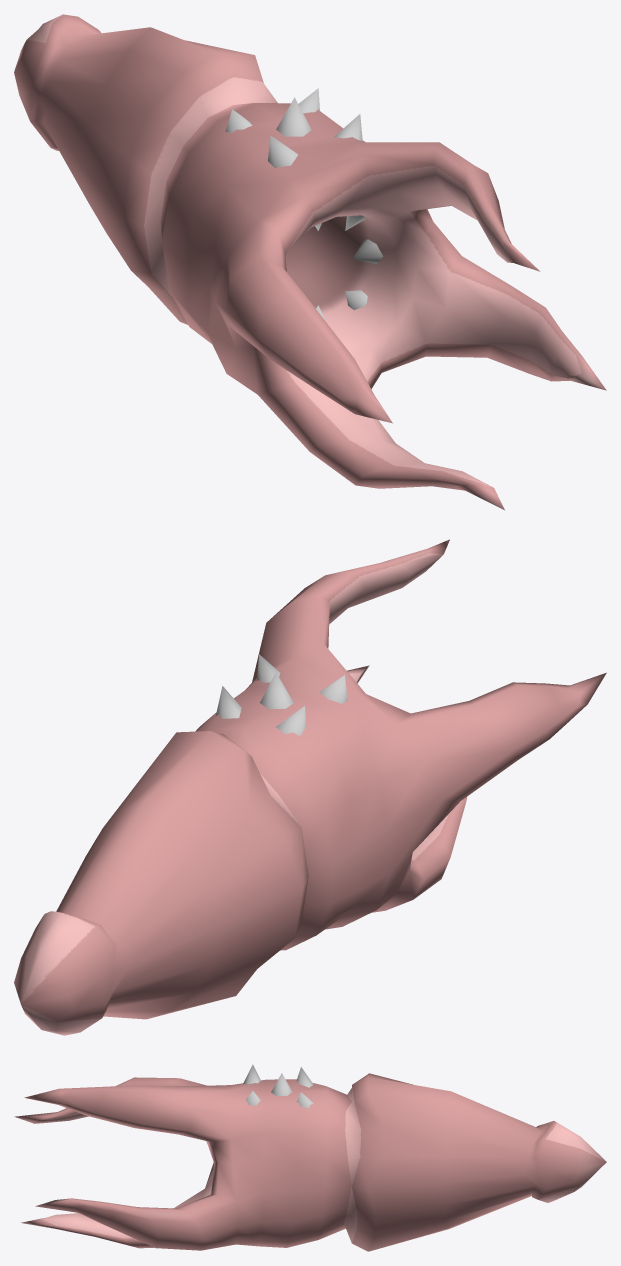
File: Calamar_final_animado.fbx
3 renders of one model, top to bottom at view 1: azimuth 30°, elevation 25°; view 2: azimuth 150°, elevation 25°; view 3: azimuth 270°, elevation 25°, orthographic. The views are drawn at different scales.
Visible parts, largest first — view 1: Cube, Pincho3.001, Cone.001; view 2: Cube, Pincho3.001; view 3: Cube, Pincho3.001.
Part boxes in pixels (<box>): Cube: <box>14,14,606,510</box>; Pincho3.001: <box>225,88,362,168</box>; Cone.001: <box>315,215,382,321</box>; Cube: <box>14,539,606,1035</box>; Pincho3.001: <box>216,654,347,735</box>; Cube: <box>14,1073,606,1251</box>; Pincho3.001: <box>243,1064,313,1108</box>.
Size of the model in its own units: 114 by 107 by 315.
